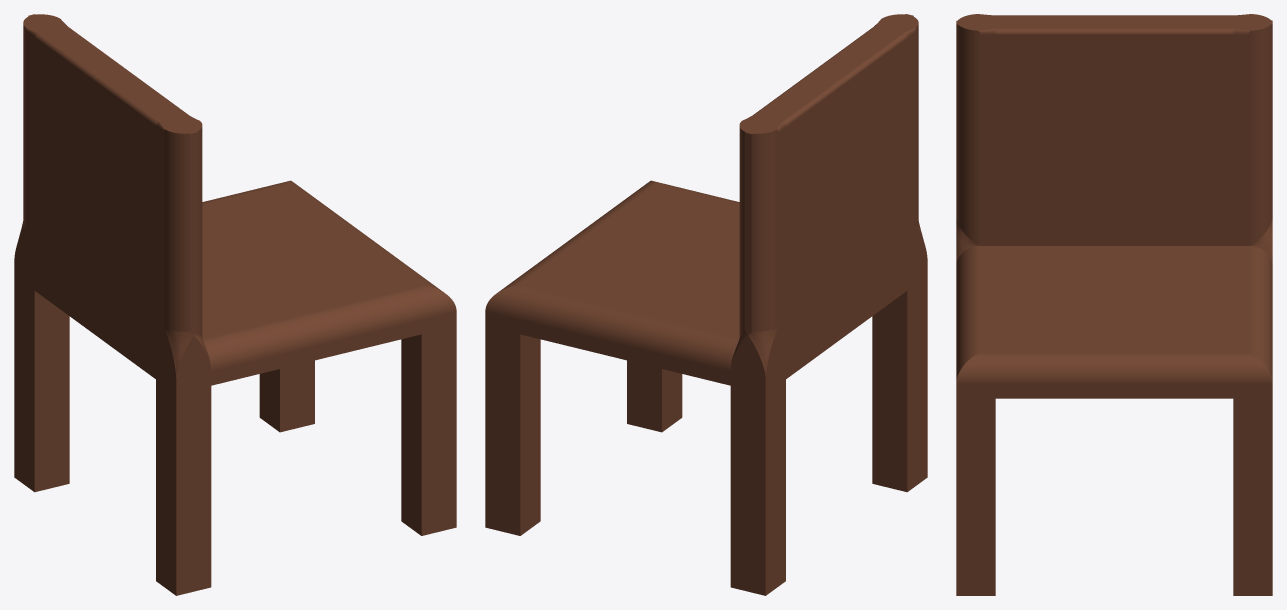
The model's file is lel.fbx.
3 views of the same model, side by side, from view 1: azimuth 30°, elevation 25°; view 2: azimuth 150°, elevation 25°; view 3: azimuth 270°, elevation 25° (orthographic). The views are drawn at different scales.
Parts seen in each view (by area): view 1: Cube; view 2: Cube; view 3: Cube.
Part boxes in pixels (x1,y1,x2,y2): Cube: (14,14,456,595); Cube: (485,14,927,595); Cube: (956,14,1272,595).
Bounding box in the file's own units: 1600 × 2500 × 1600.
